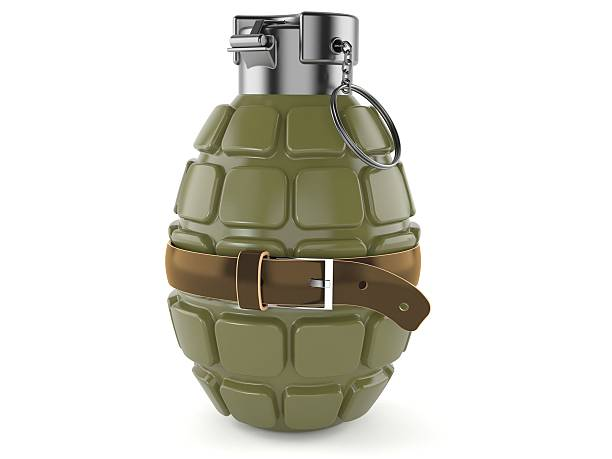e1: (166, 12, 426, 434)
